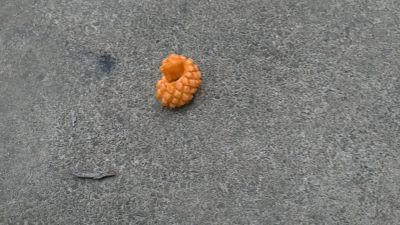eggs: (156, 52, 201, 108)
